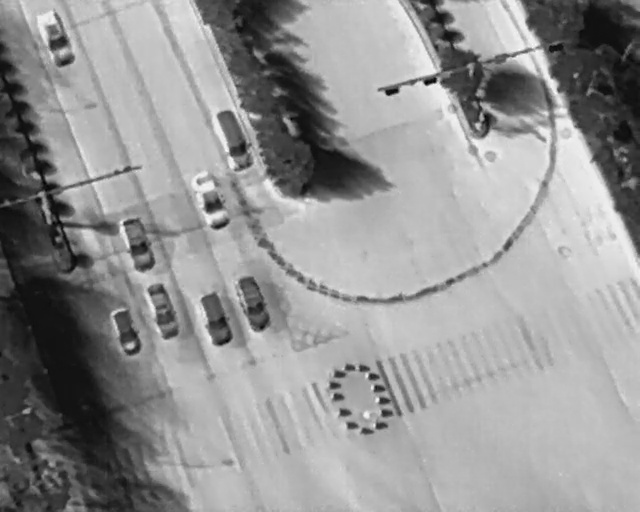Car: (208, 104, 257, 175), (186, 168, 235, 233), (137, 277, 185, 343), (31, 7, 77, 71), (229, 273, 275, 336), (115, 214, 159, 276), (194, 288, 236, 350), (105, 304, 145, 359)
